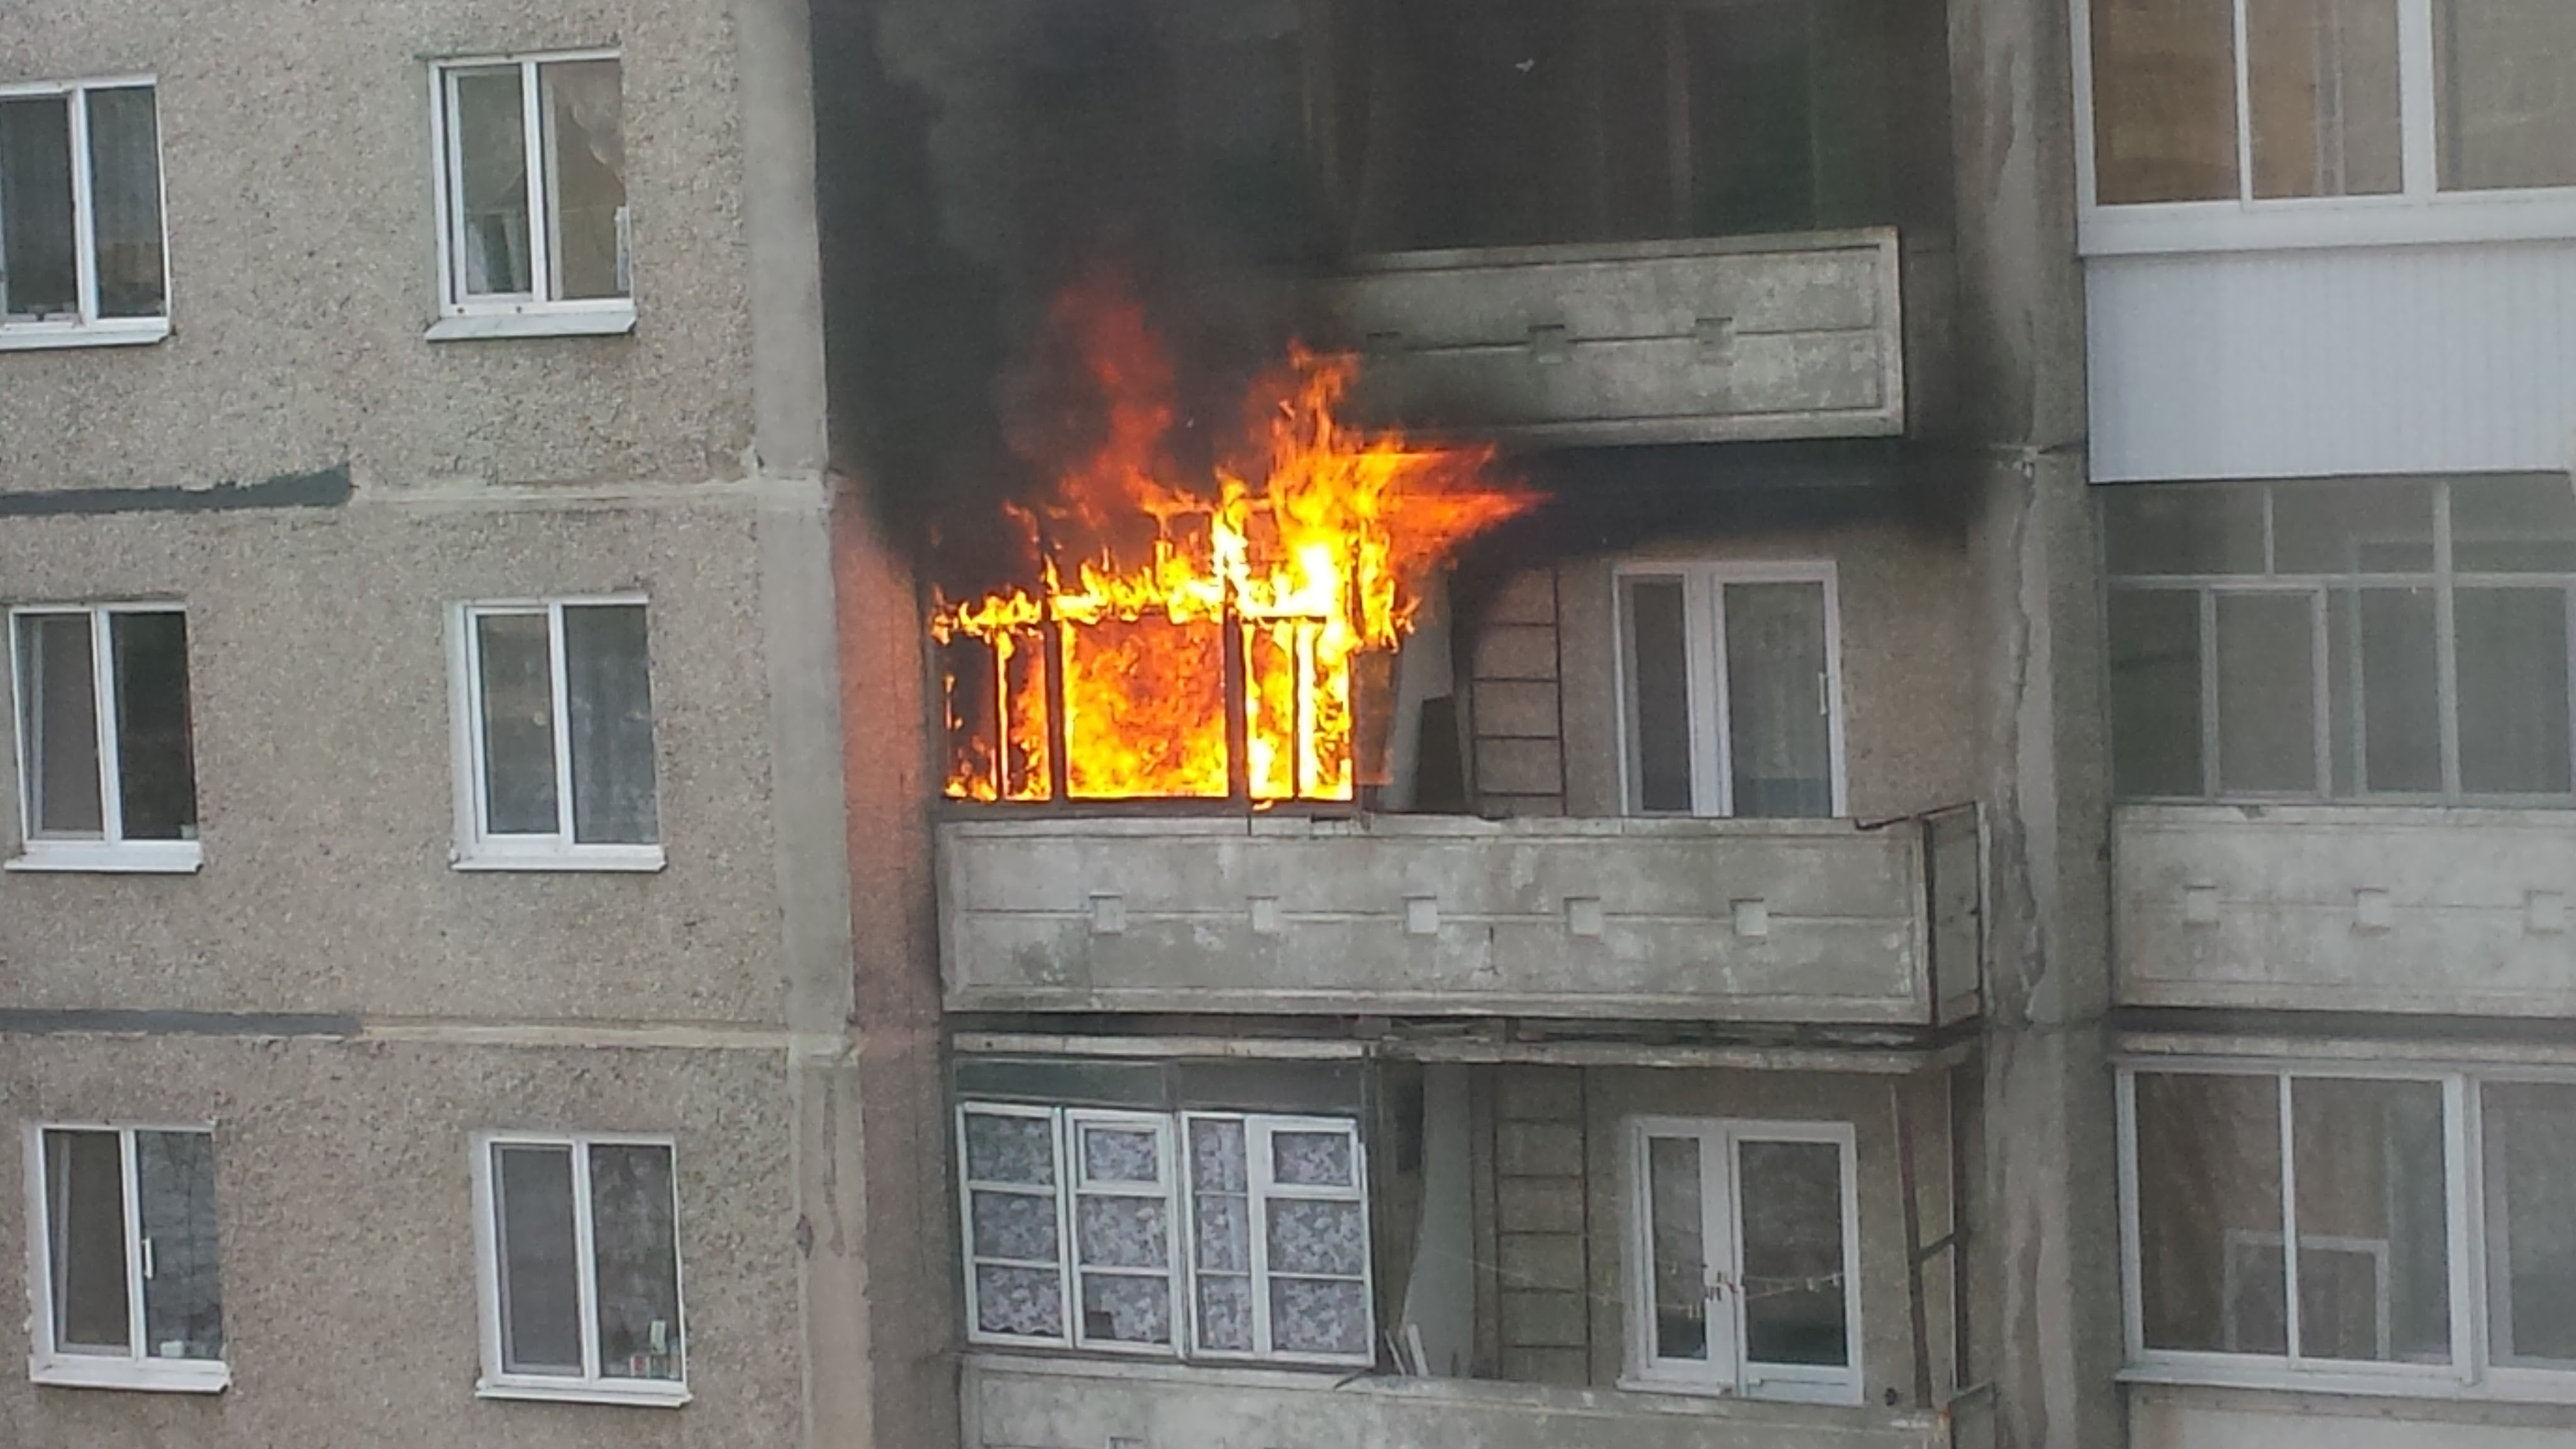fire: (830, 11, 1467, 830)
